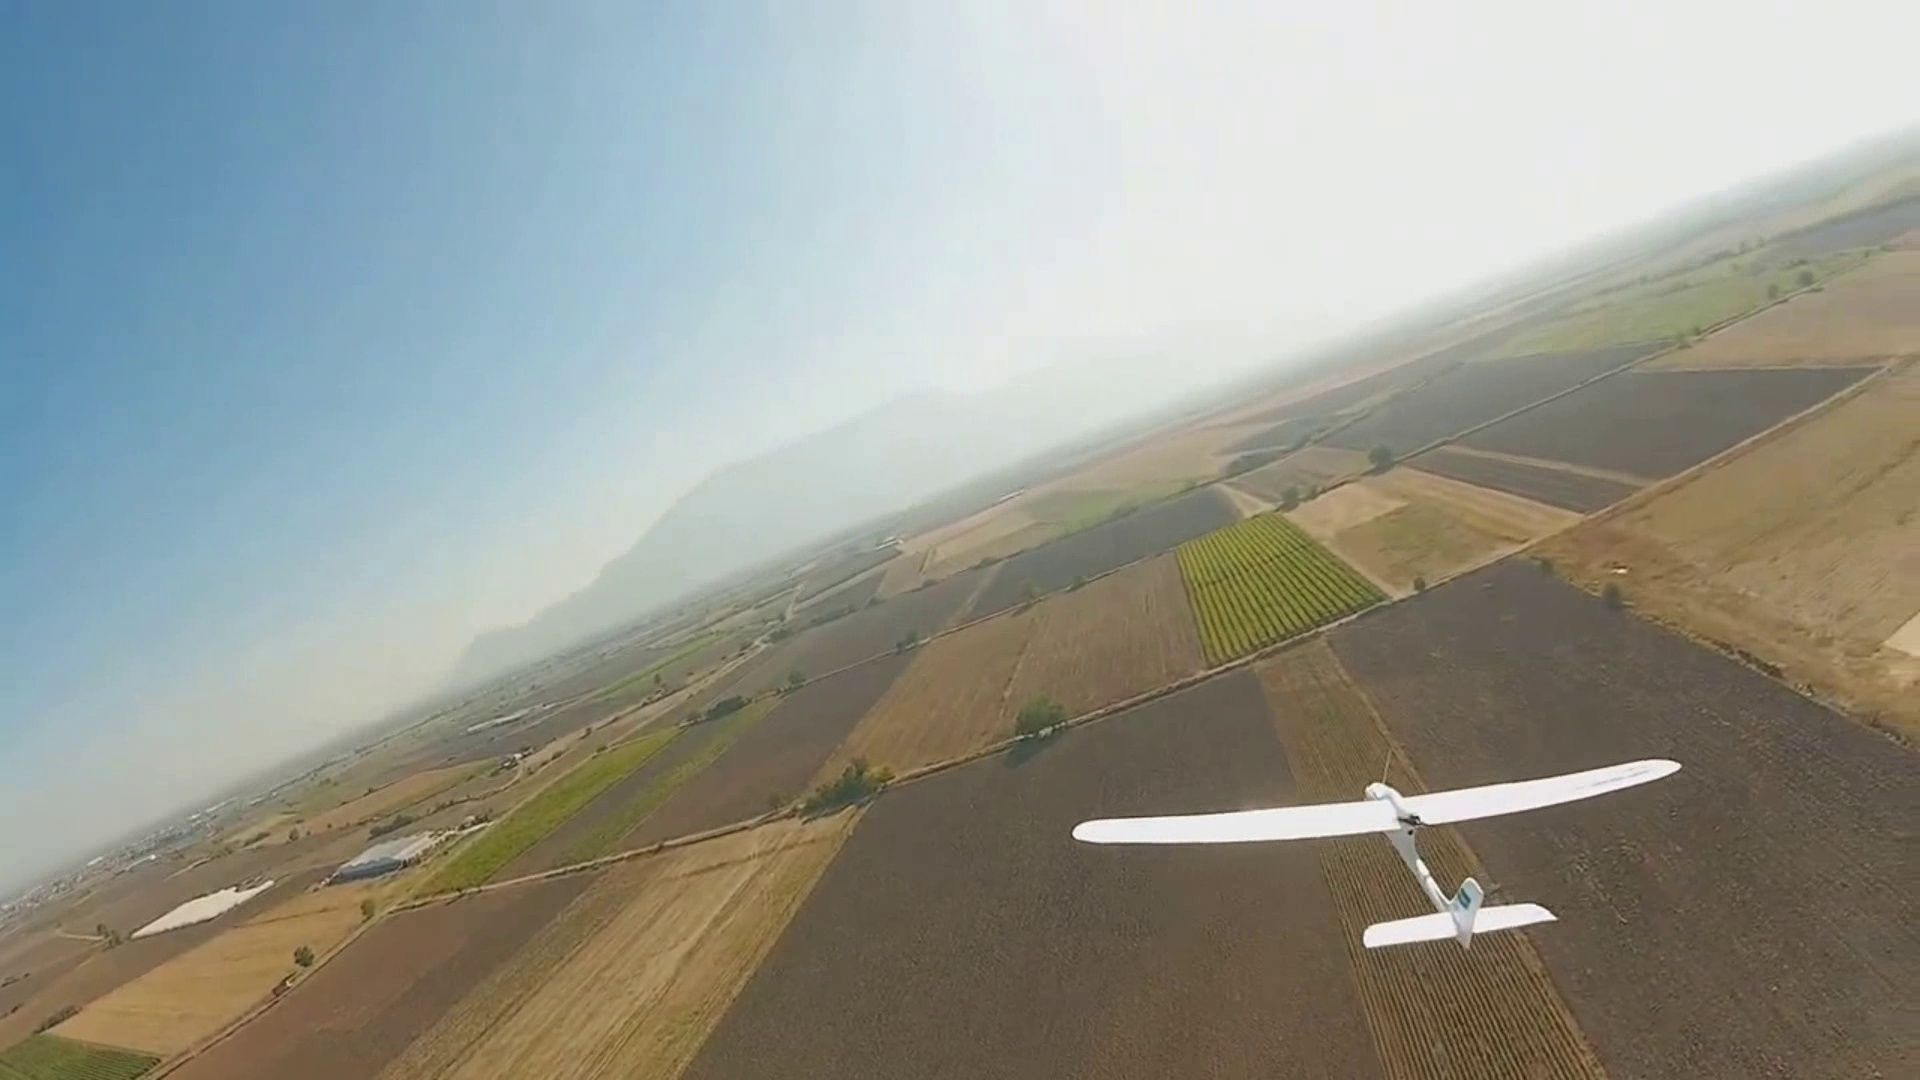airplane: (1067, 760, 1681, 948)
